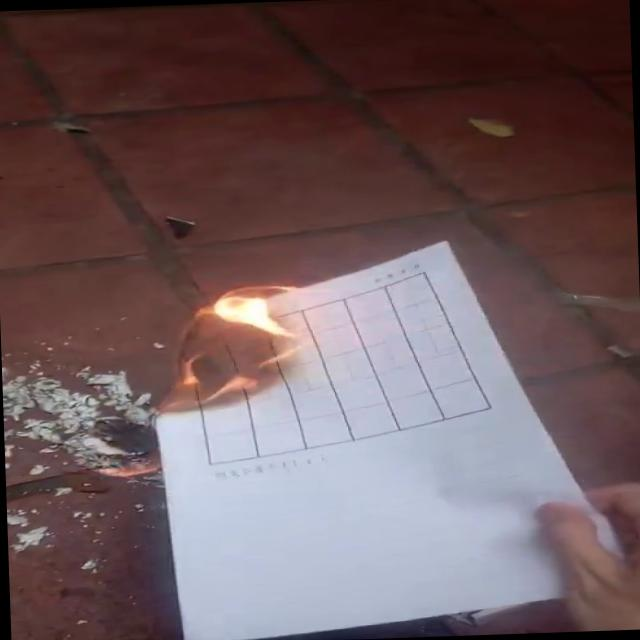Fire_Dangerous: (138, 279, 308, 406)
